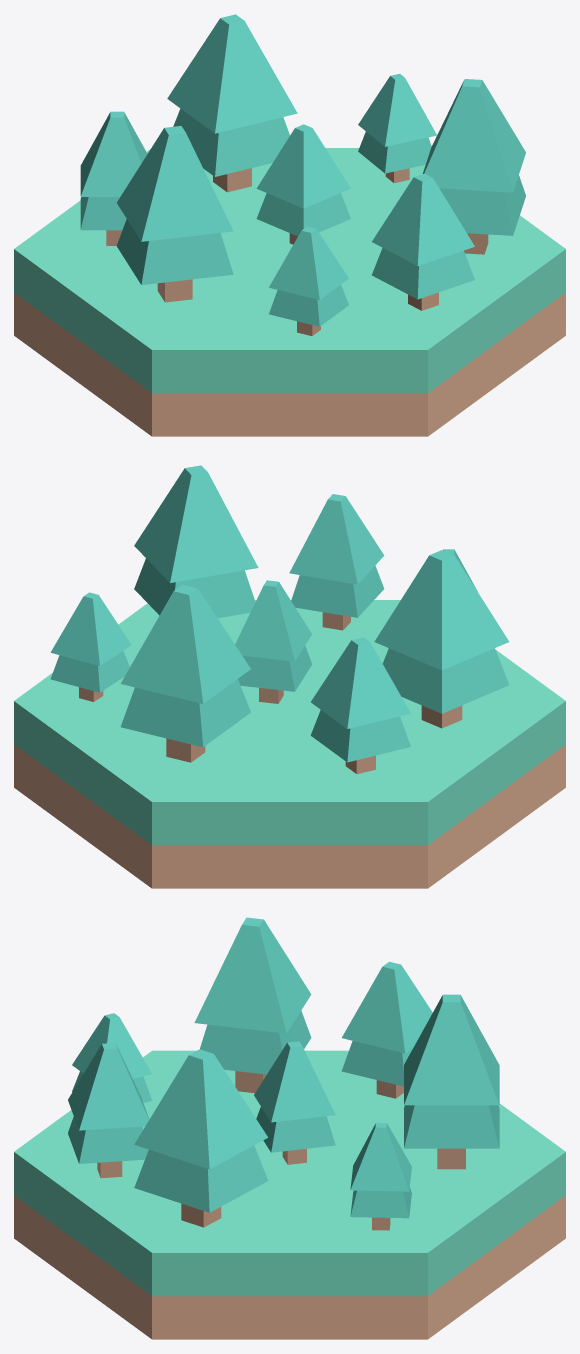
The model's file is ForestCell.fbx.
The picture shows the model from 3 angles, top to bottom: view 1: azimuth 30°, elevation 25°; view 2: azimuth 150°, elevation 25°; view 3: azimuth 270°, elevation 25°; orthographic projection.
Parts seen in each view (by area): view 1: grass_forest, tree.002, tree, tree.004, tree.007, tree.006, tree.001, tree.003, tree.005; view 2: grass_forest, tree, tree.002, tree.004, tree.001, tree.007, tree.006, tree.005; view 3: grass_forest, tree.004, tree.002, tree, tree.007, tree.001, tree.006, tree.005, tree.003.
Boxes of the visible parts, bbox=[...] form: grass_forest: bbox=[14, 148, 565, 436]; tree.002: bbox=[167, 14, 297, 192]; tree: bbox=[117, 126, 233, 302]; tree.004: bbox=[422, 79, 525, 254]; tree.007: bbox=[372, 173, 474, 310]; tree.006: bbox=[256, 124, 350, 244]; tree.001: bbox=[80, 111, 147, 245]; tree.003: bbox=[269, 226, 348, 335]; tree.005: bbox=[358, 73, 436, 182]; grass_forest: bbox=[14, 600, 565, 888]; tree: bbox=[374, 550, 509, 728]; tree.002: bbox=[120, 584, 250, 762]; tree.004: bbox=[134, 465, 258, 618]; tree.001: bbox=[310, 637, 410, 774]; tree.007: bbox=[289, 494, 384, 630]; tree.006: bbox=[235, 580, 311, 703]; tree.005: bbox=[50, 592, 131, 701]; grass_forest: bbox=[14, 1050, 565, 1339]; tree.004: bbox=[134, 1049, 268, 1227]; tree.002: bbox=[404, 994, 499, 1169]; tree: bbox=[194, 917, 311, 1093]; tree.007: bbox=[68, 1043, 149, 1178]; tree.001: bbox=[341, 961, 432, 1098]; tree.006: bbox=[254, 1041, 335, 1164]; tree.005: bbox=[350, 1122, 411, 1230]; tree.003: bbox=[72, 1013, 152, 1102].
Bounding box in the file's own units: 100 × 58 × 115.
